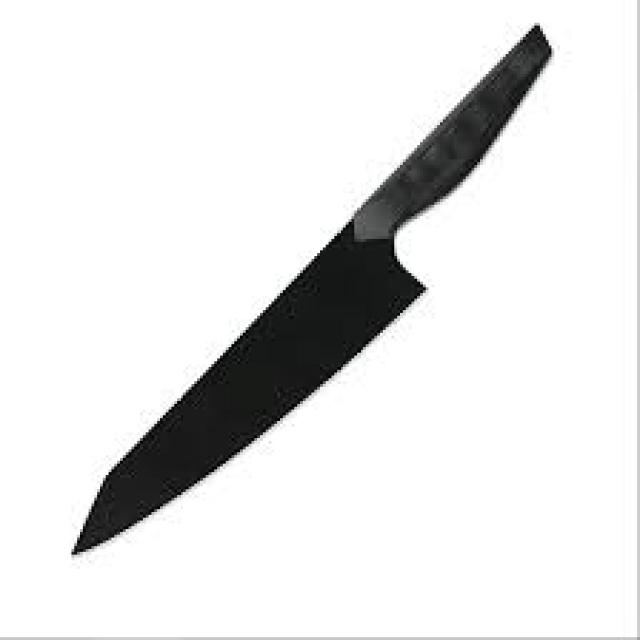Knife: (69, 20, 552, 555)
